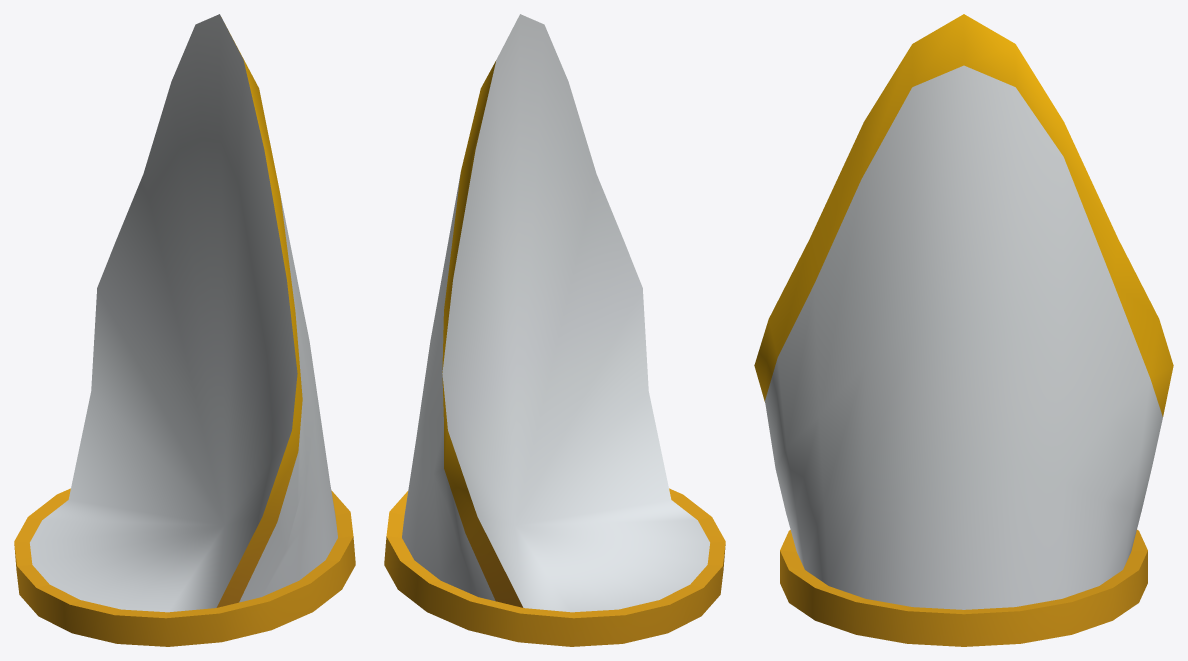
The model's file is Mitre.fbx.
The picture shows the model from 3 angles, left to right: view 1: azimuth 30°, elevation 25°; view 2: azimuth 150°, elevation 25°; view 3: azimuth 270°, elevation 25°; orthographic projection. The views are drawn at different scales.
Visible parts, largest first — view 1: Mitre; view 2: Mitre; view 3: Mitre.
Boxes of the visible parts, left/top/right/bottom form: Mitre: left=14, top=14, right=355, bottom=646; Mitre: left=384, top=14, right=725, bottom=646; Mitre: left=754, top=14, right=1173, bottom=646.
Bounding box in the file's own units: 211 × 378 × 239.
Materials: 1 (1 with a texture image).
